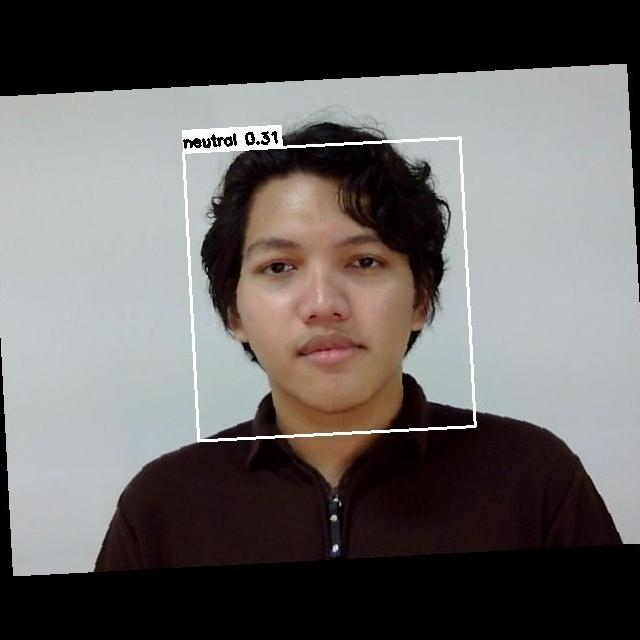Natural: (239, 229, 421, 383)
